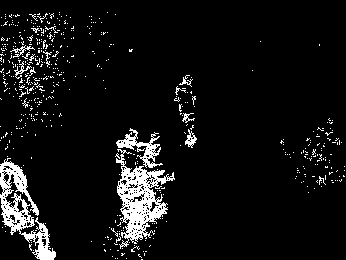person: (1, 160, 56, 260), (173, 73, 199, 150)
